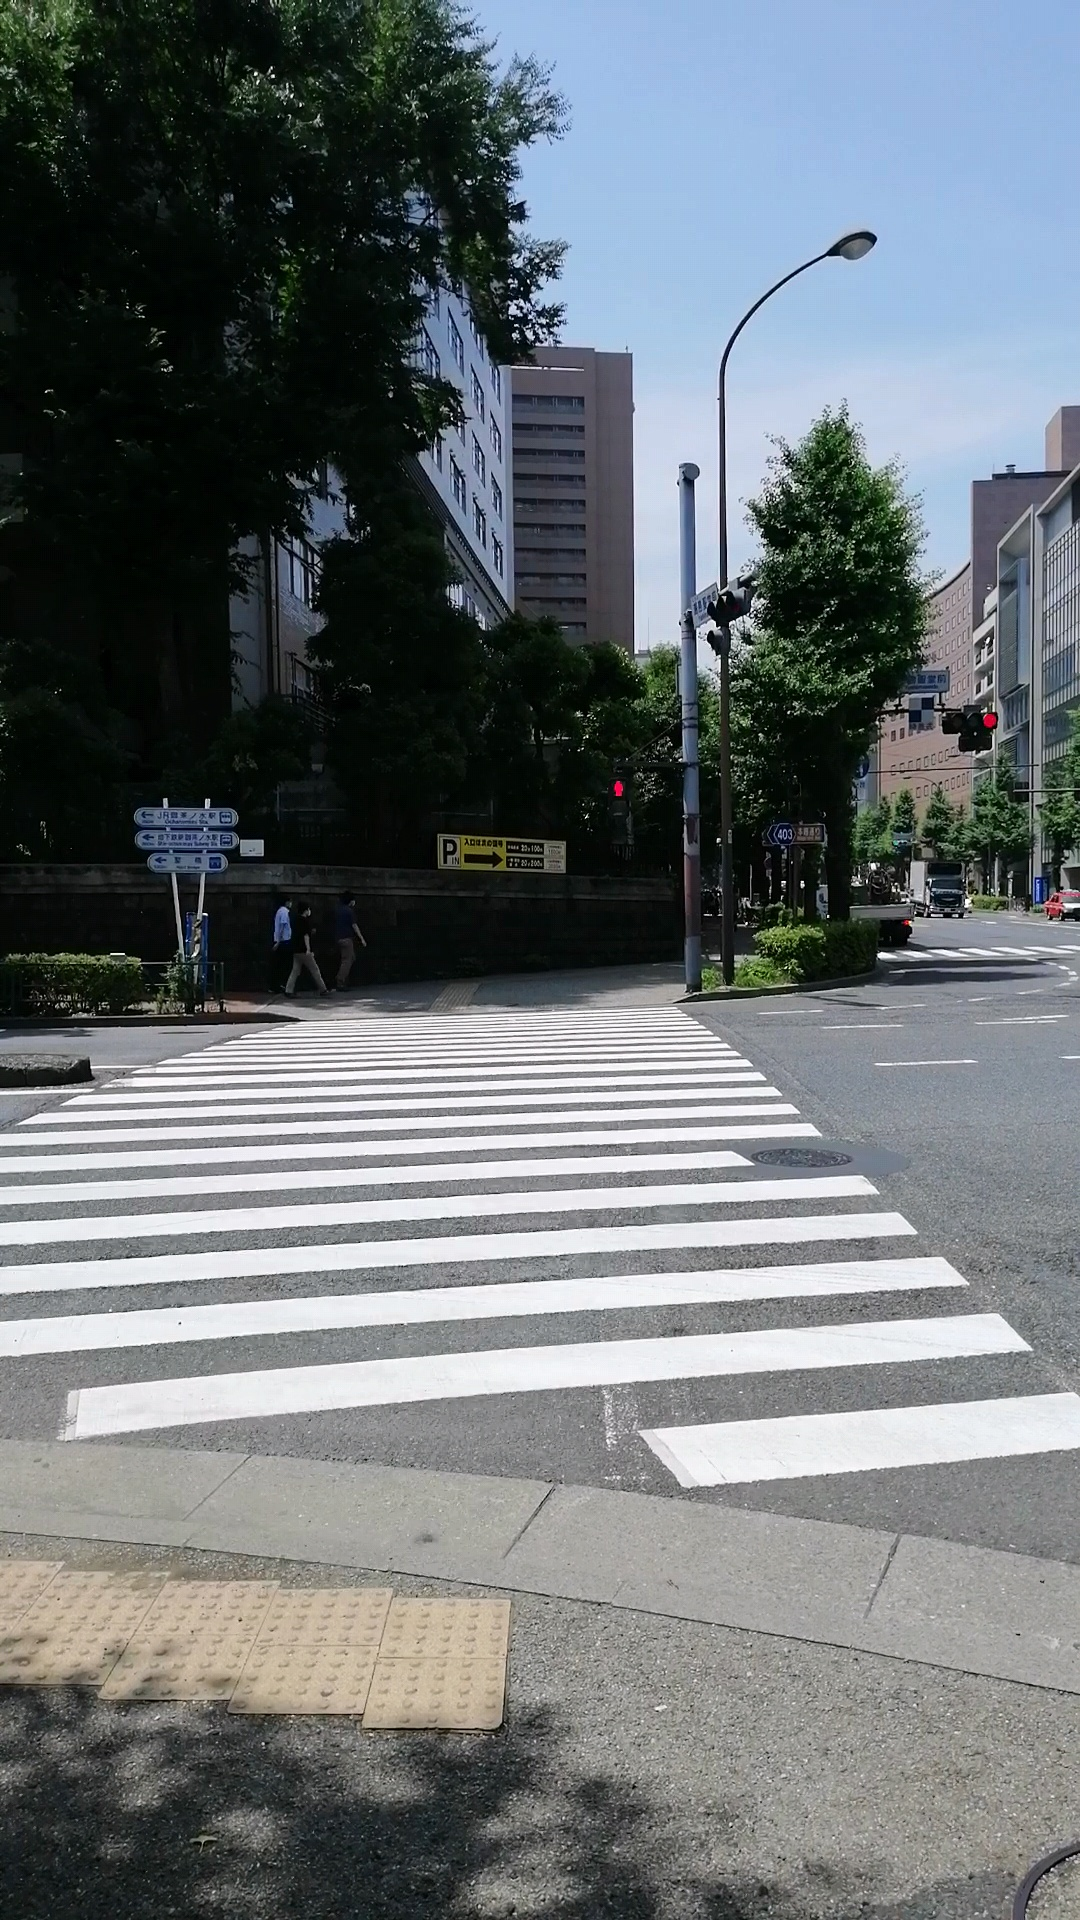red: (607, 771, 632, 823)
